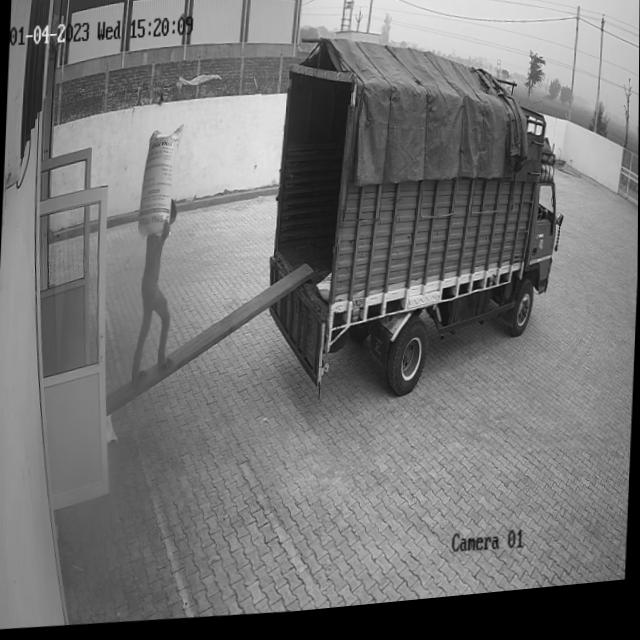sack: (137, 125, 183, 245)
